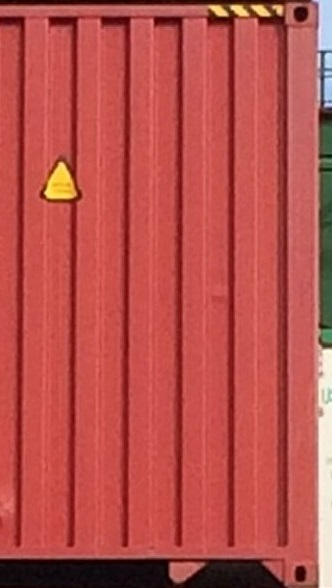container_no_door: (2, 4, 314, 585)
